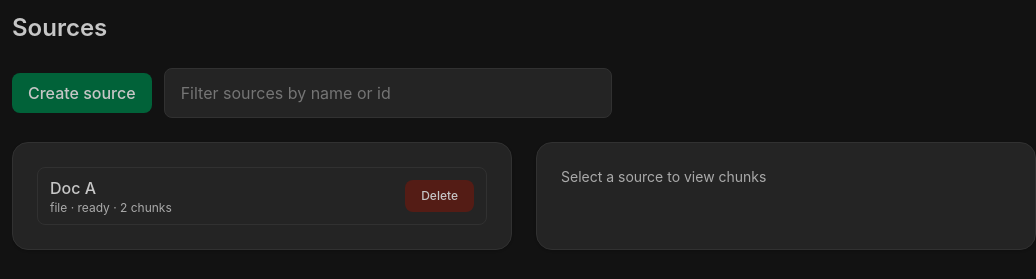
Test: SourcesPage › loads chunks when source is selected
Click the text "Doc A". click: click(73, 188)
box: x1=50 y1=178 x2=96 y2=198
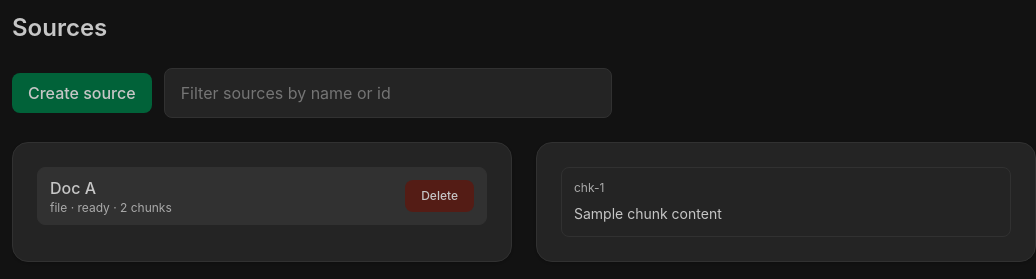
Expected: the text "Sample chunk content" is shown, x1=574 y1=205 x2=722 y2=222
